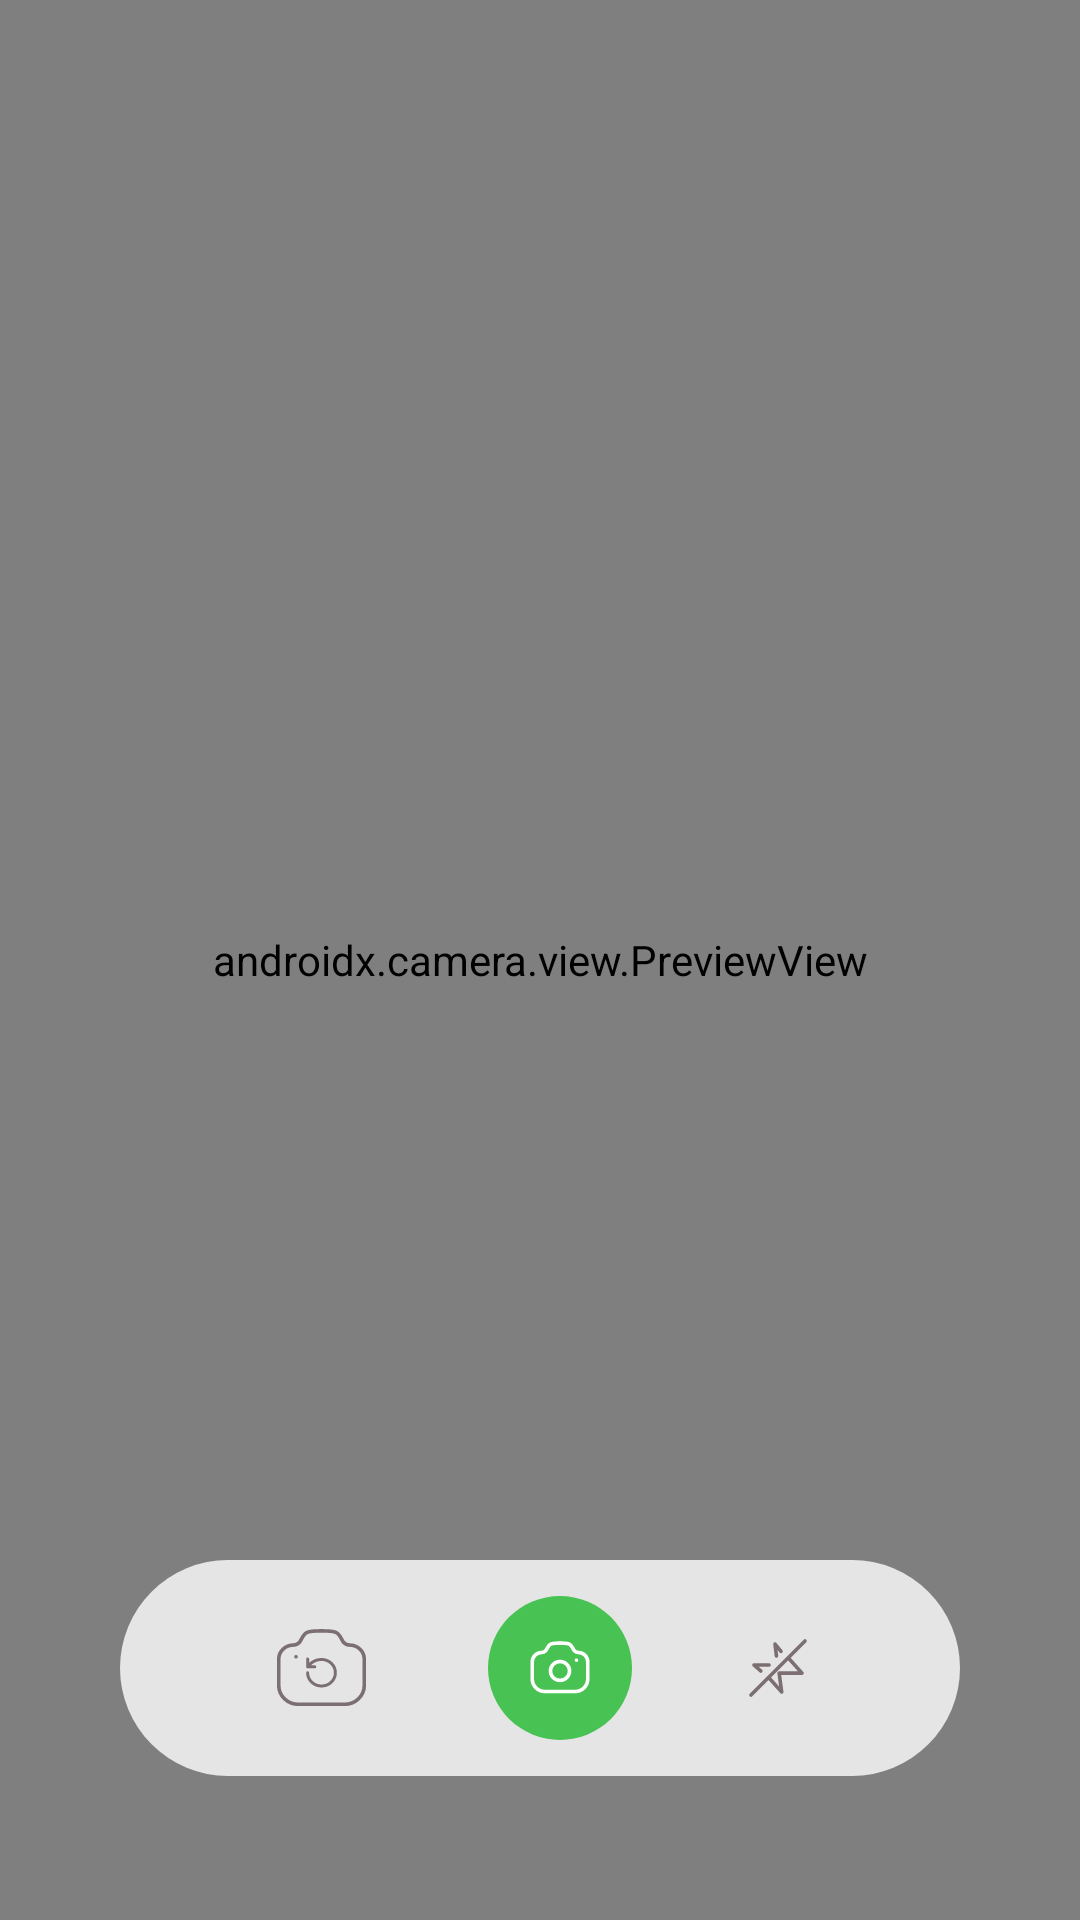

Named icons in this screenshot (1080w x 1920h) and their centers, (x=x, y=y):
flash: (x=778, y=1668)
rotate camera: (x=321, y=1667)
